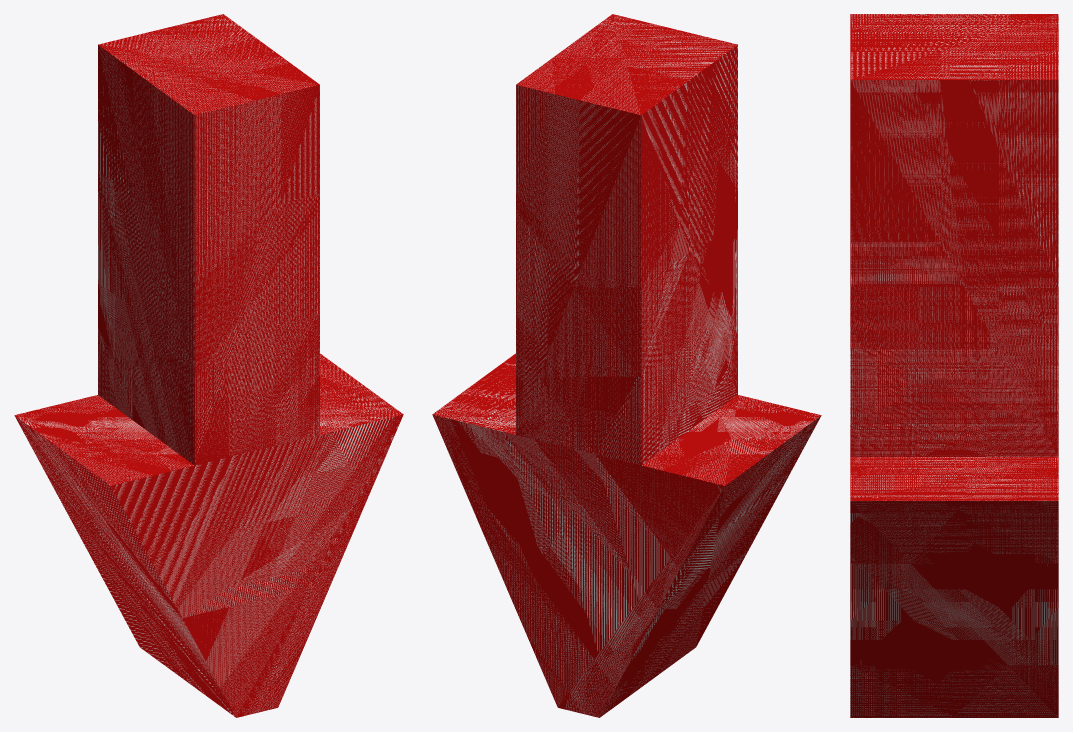
The model's file is flecha_roja.dae.
3 views of the same model, side by side, from view 1: azimuth 30°, elevation 25°; view 2: azimuth 150°, elevation 25°; view 3: azimuth 270°, elevation 25° (orthographic). The views are drawn at different scales.
Visible parts, largest first — view 1: SketchUp; view 2: SketchUp; view 3: SketchUp.
Boxes of the visible parts, x1,y1,x2,y2 form: SketchUp: (14,14,403,717); SketchUp: (432,14,821,717); SketchUp: (850,14,1058,717).
Size of the model in its own units: 13.78 by 7.87 by 27.56.
